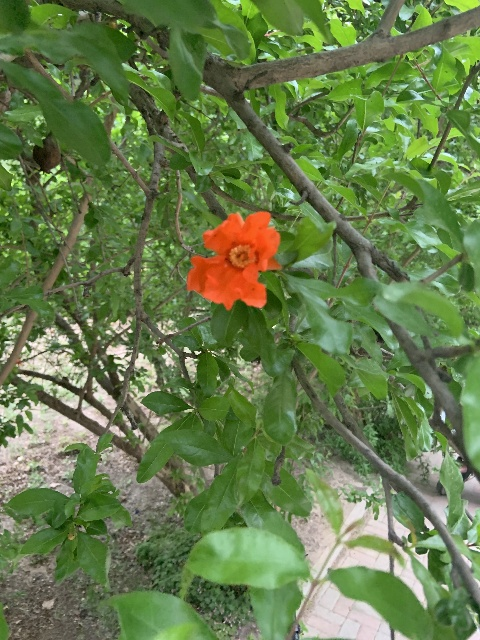flower: (186, 211, 282, 311)
